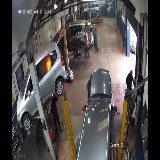fire: (44, 55, 54, 72)
